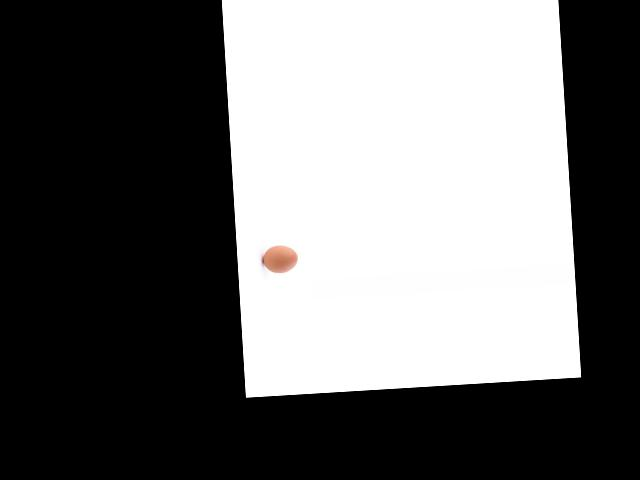egg: (262, 244, 298, 274)
